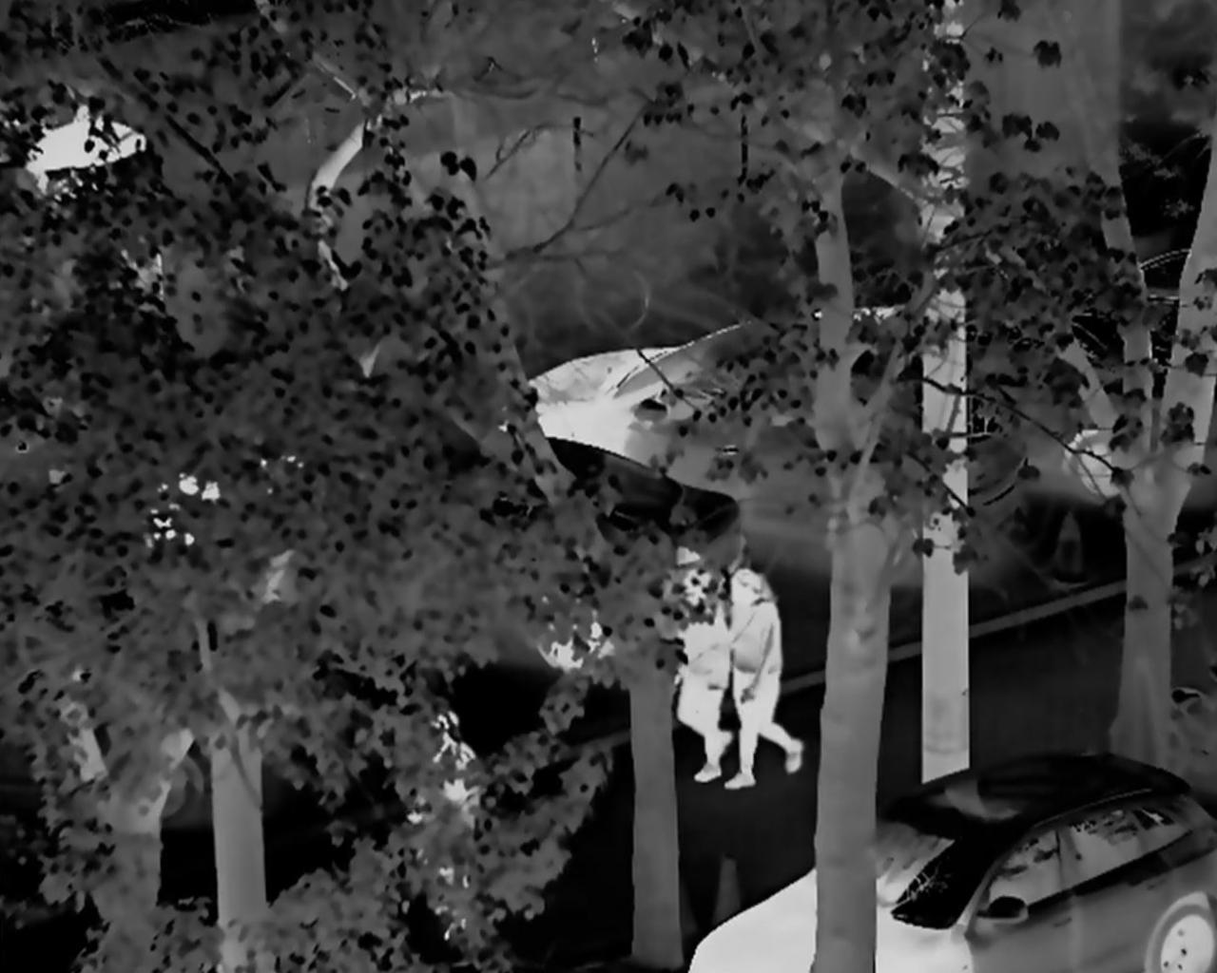person: (724, 563, 807, 787), (407, 714, 487, 945), (666, 570, 734, 800)
